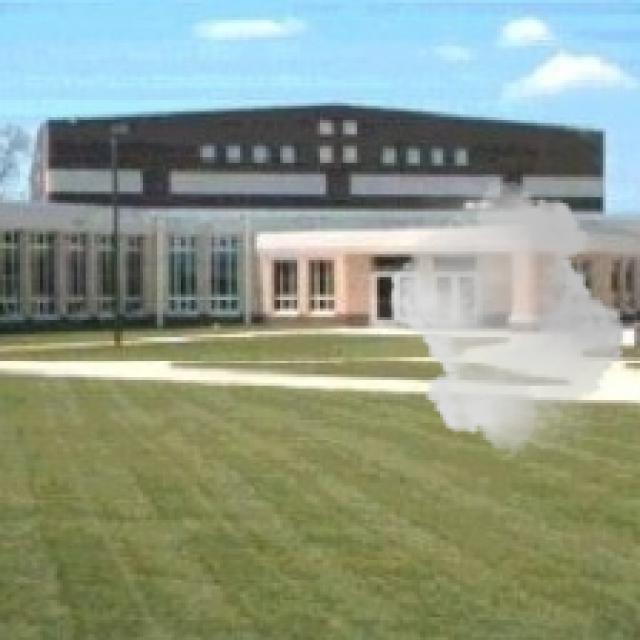smoke: (380, 174, 634, 457)
